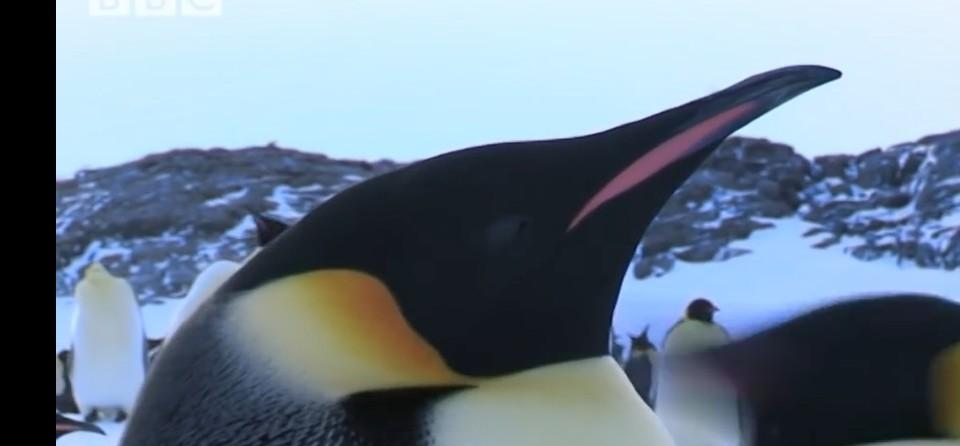Emperor Penguin: (51, 55, 883, 446), (654, 280, 960, 446), (62, 228, 174, 438)
